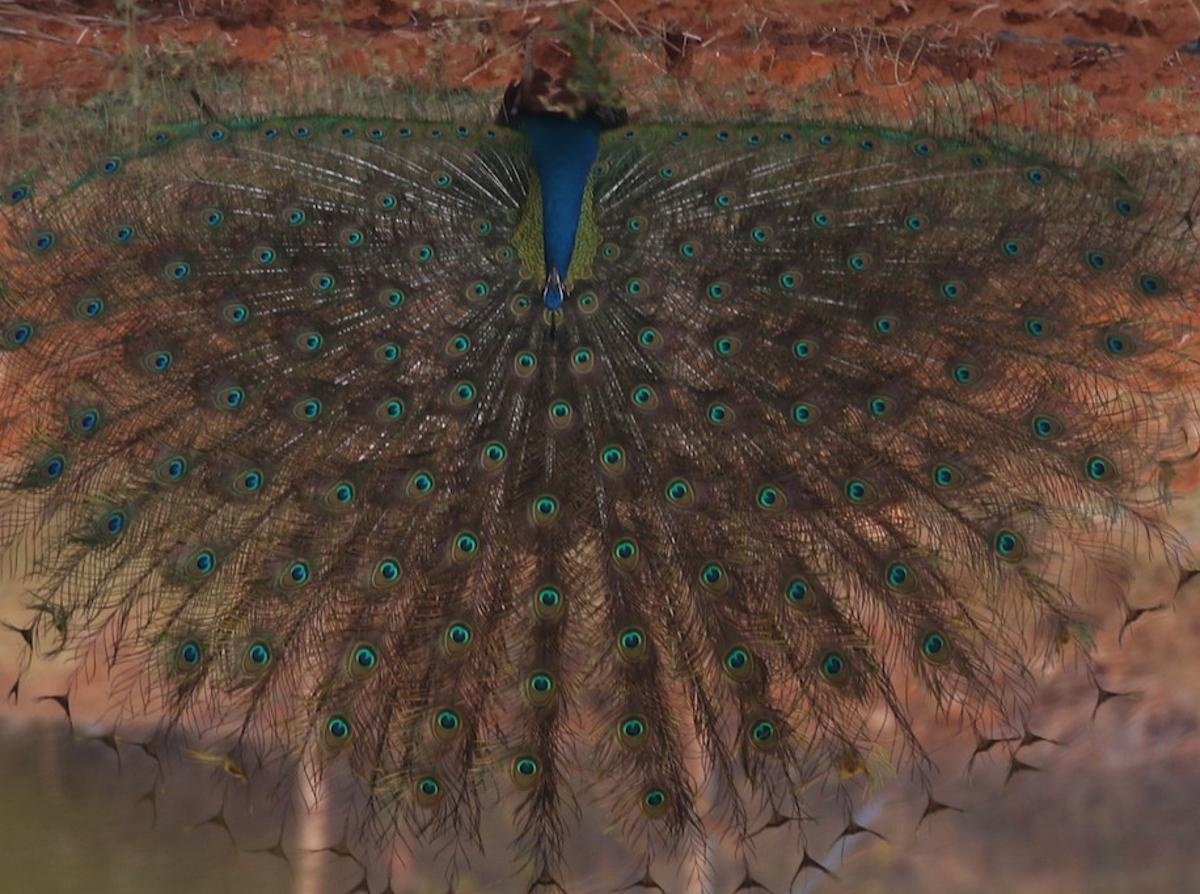peacock: (93, 88, 977, 775)
